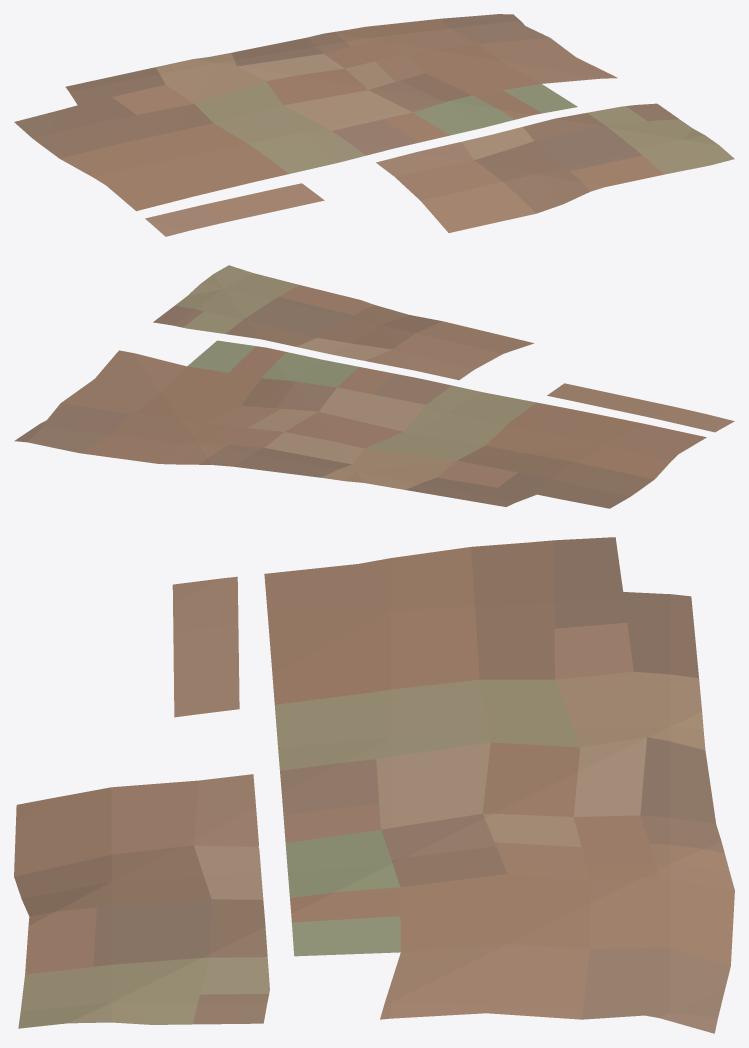
The model's file is farm_37_34_soil.glb.
3 views of the same model, one above another, from view 1: azimuth 30°, elevation 25°; view 2: azimuth 150°, elevation 25°; view 3: azimuth 270°, elevation 25° (orthographic). The views are drawn at different scales.
Parts seen in each view (by area): view 1: geometry_0; view 2: geometry_0; view 3: geometry_0.
Boxes of the visible parts, x1,y1,x2,y2 form: geometry_0: (14,14,734,236); geometry_0: (14,265,734,508); geometry_0: (14,537,734,1033).
Bounding box in the file's own units: 294 × 22.86 × 206.
